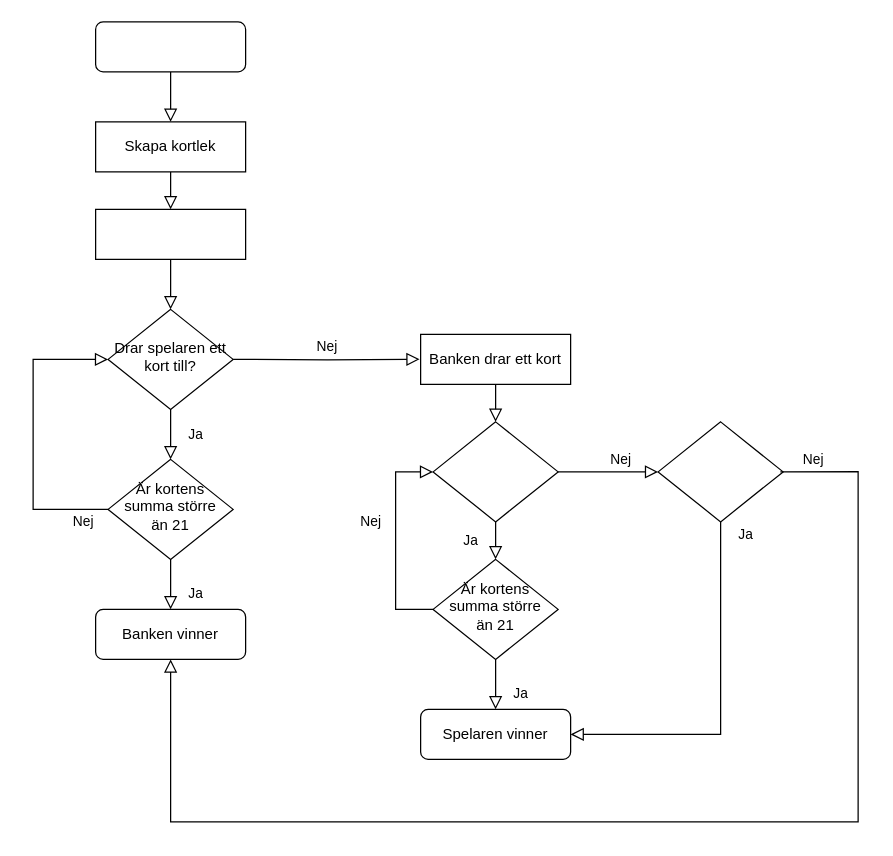
Some shapes in this 893 by 856 pixel diagram are drawn without their labels. Here are the shapes that lost their labels. From the top down, the centre of each, then its label:
At pixel 170 46: "Starta spel".
At pixel 170 233: "Spelaren drar ett kort".
At pixel 495 471: "Drar banken ett till kort?".
At pixel 720 471: "Är kortens summa större eller lika med spelarens kort?".
